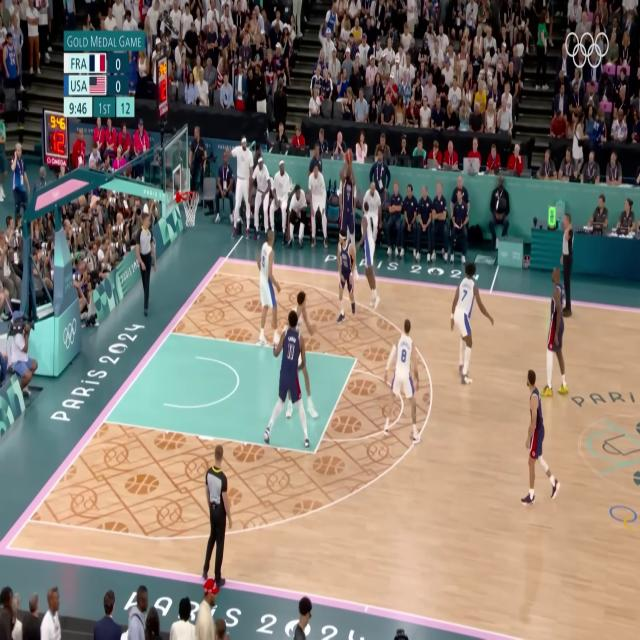ball-handler: (334, 141, 358, 250)
player: (260, 294, 310, 462), (511, 364, 561, 514), (370, 317, 424, 445), (447, 259, 497, 393), (276, 288, 318, 426), (537, 269, 576, 401), (253, 222, 283, 350), (355, 195, 379, 309), (331, 226, 359, 317)
